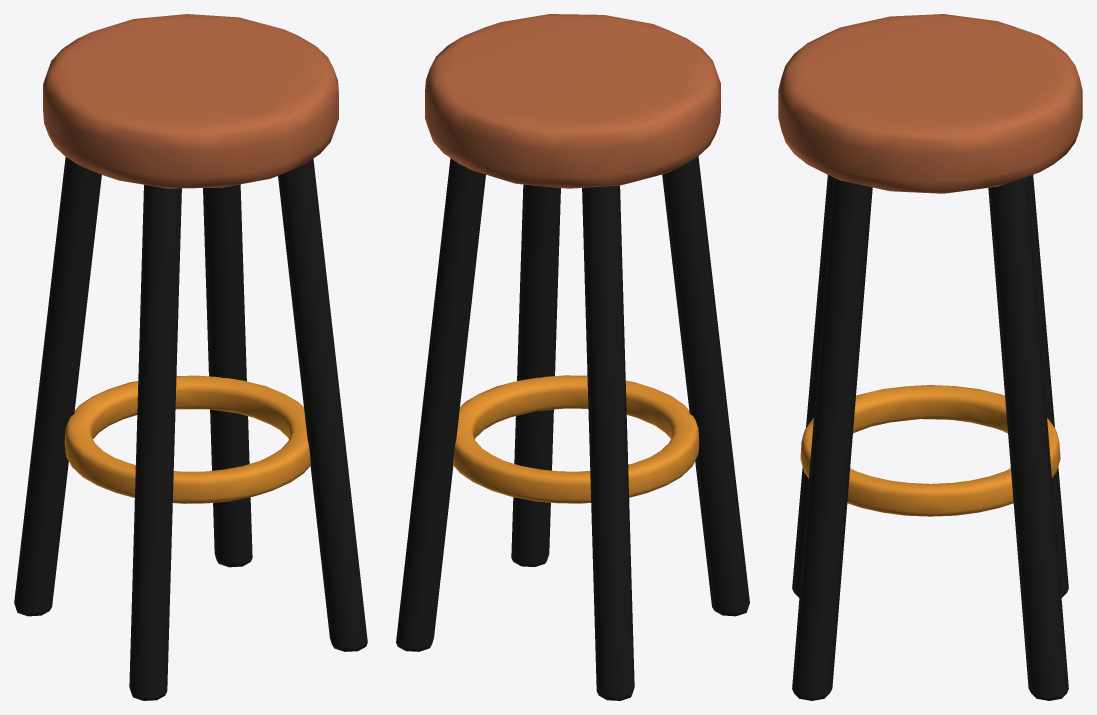
The model's file is barstool_04_orange.fbx.
3 renders of one model, left to right at view 1: azimuth 30°, elevation 25°; view 2: azimuth 150°, elevation 25°; view 3: azimuth 270°, elevation 25°, orthographic. The views are drawn at different scales.
Visible parts, largest first — view 1: barstool_04_orange; view 2: barstool_04_orange; view 3: barstool_04_orange.
Part boxes in pixels (x1,y1,x2,y2): barstool_04_orange: [14, 14, 367, 700]; barstool_04_orange: [396, 14, 749, 700]; barstool_04_orange: [778, 14, 1082, 700].
Size of the model in its own units: 43.49 by 90.36 by 43.49.
Materials: 2 (2 with a texture image).
